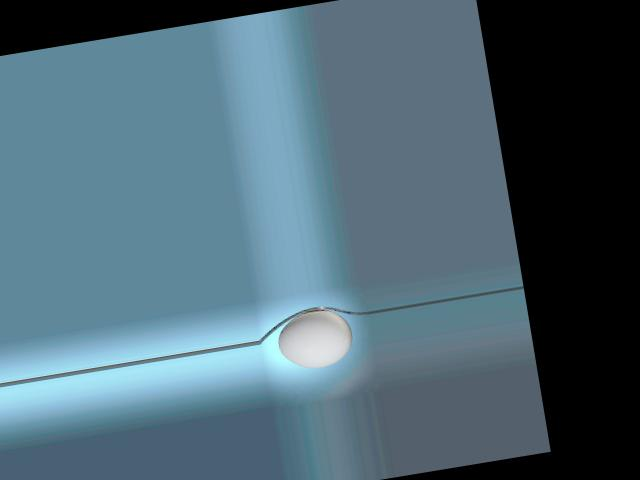egg: (274, 305, 356, 372)
